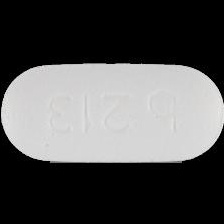0093-7393: (0, 0, 224, 224)
